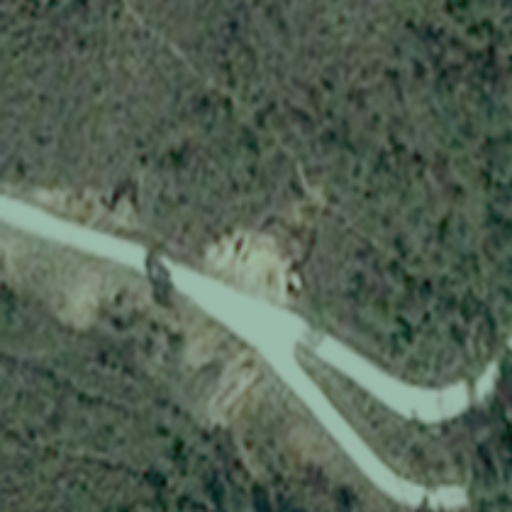landslide: (207, 223, 293, 302)
